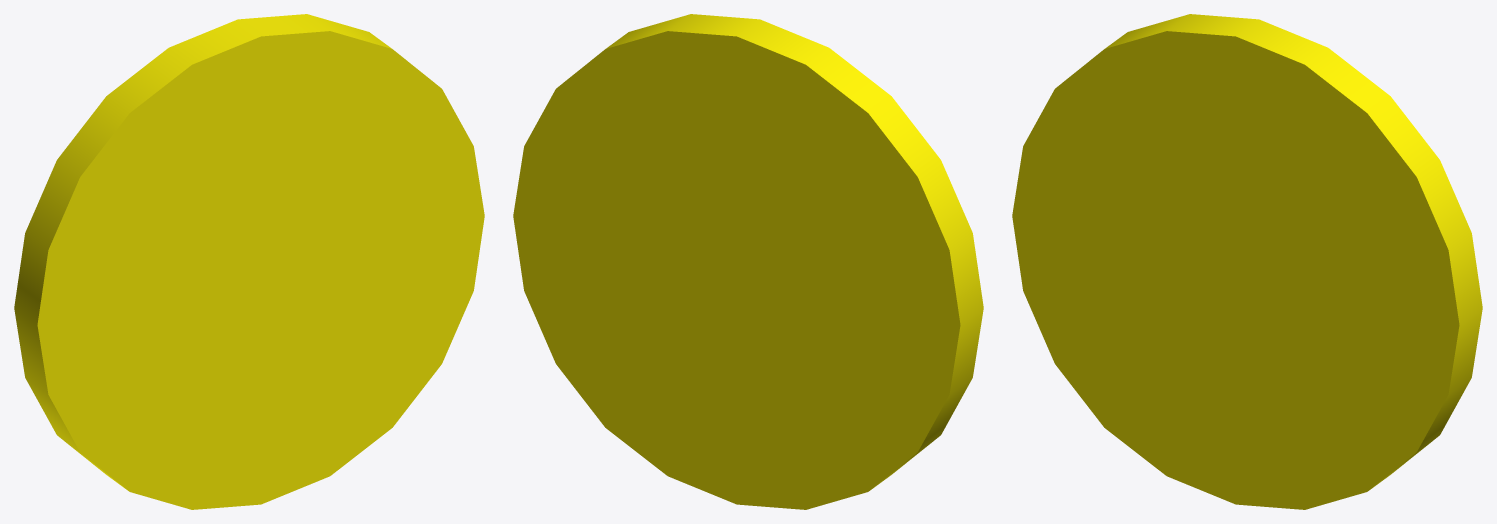
File: Coin.fbx
3 views of the same model, side by side, from view 1: azimuth 30°, elevation 25°; view 2: azimuth 150°, elevation 25°; view 3: azimuth 330°, elevation 25° (orthographic).
Visible parts, largest first — view 1: Coin; view 2: Coin; view 3: Coin.
Boxes of the visible parts, x1,y1,x2,y2 form: Coin: (14, 14, 484, 509); Coin: (513, 14, 983, 509); Coin: (1012, 14, 1482, 509).
Size of the model in its own units: 61.52 by 61.52 by 5.55.
